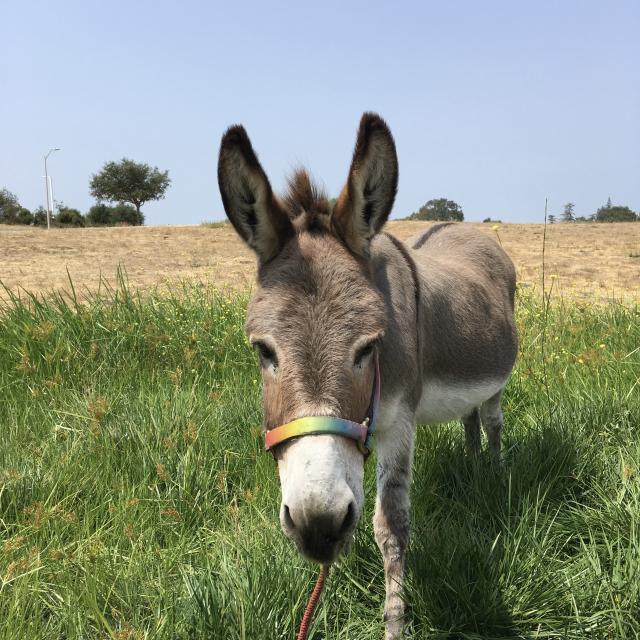Donkey: (215, 111, 518, 640)
